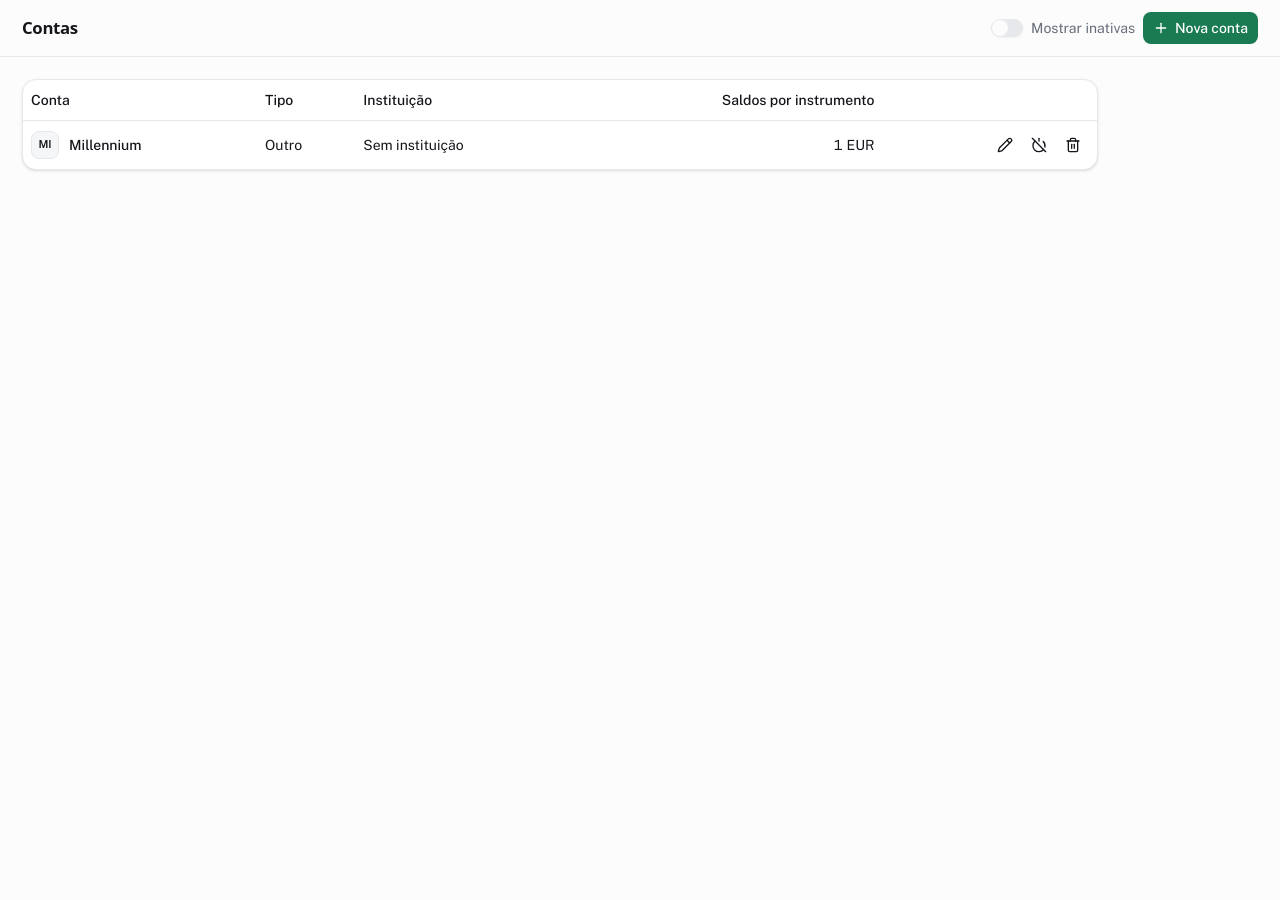
AccountsPage › refreshes Instrument Balances after editing an Initial Balance
The image size is (1280, 900).
Expected: the text "1 EUR" is shown, [833,136,874,152]
Click the button named "Editar": (1005, 144) [989,128,1021,160]
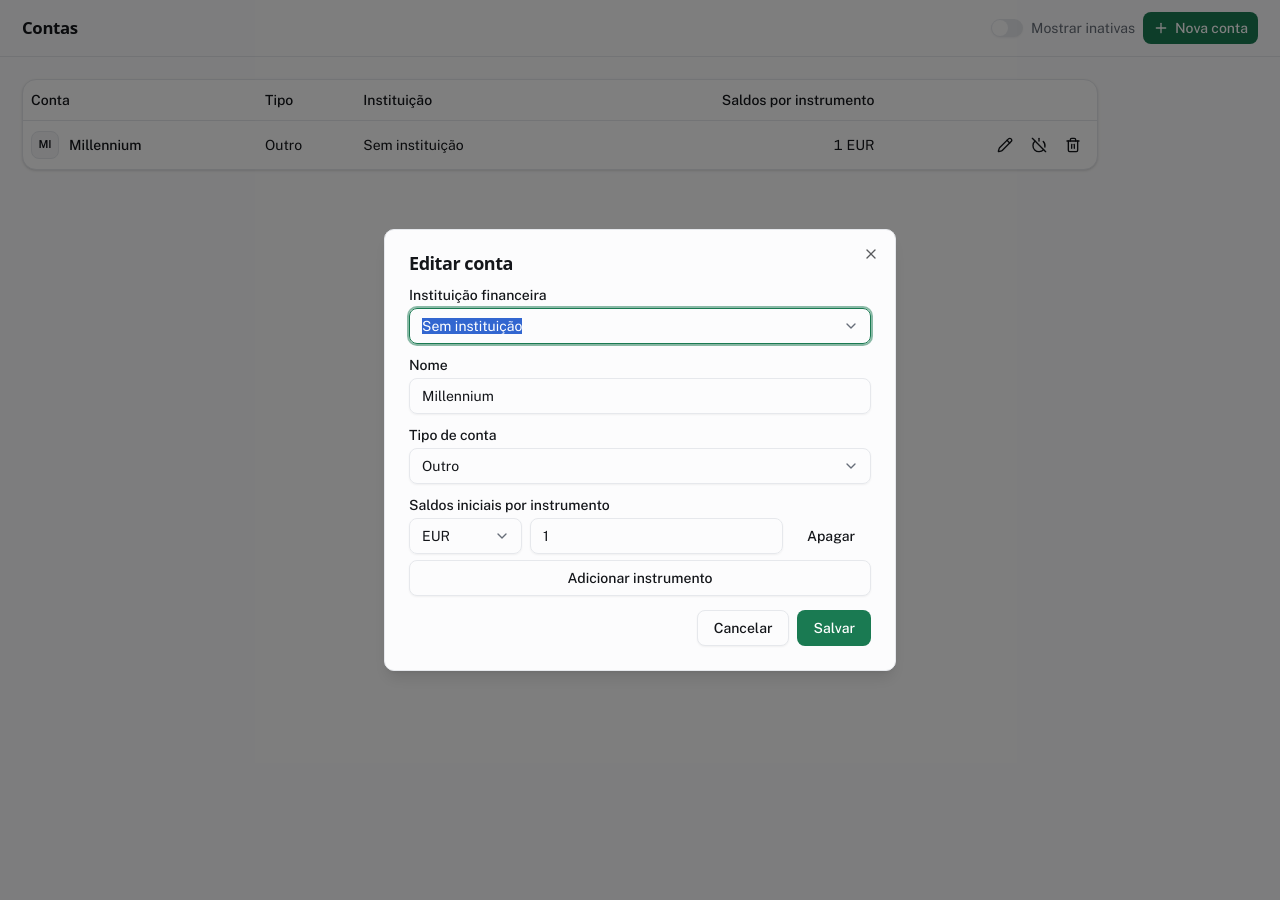
Replace the text in the field named "Quantidade" with "2": (656, 536) [530,518,783,554]
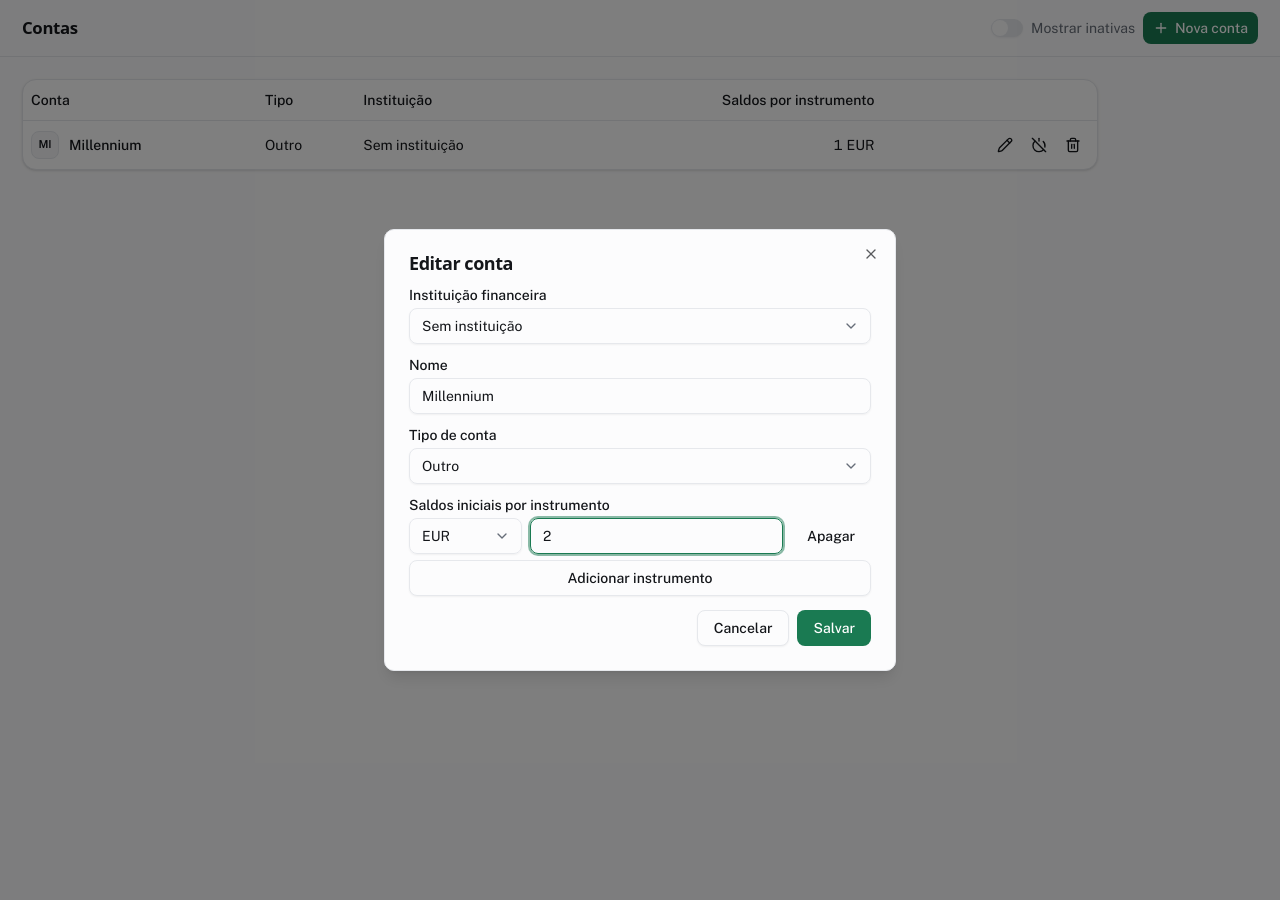
Click the button "Salvar": (834, 628) [798,610,871,646]
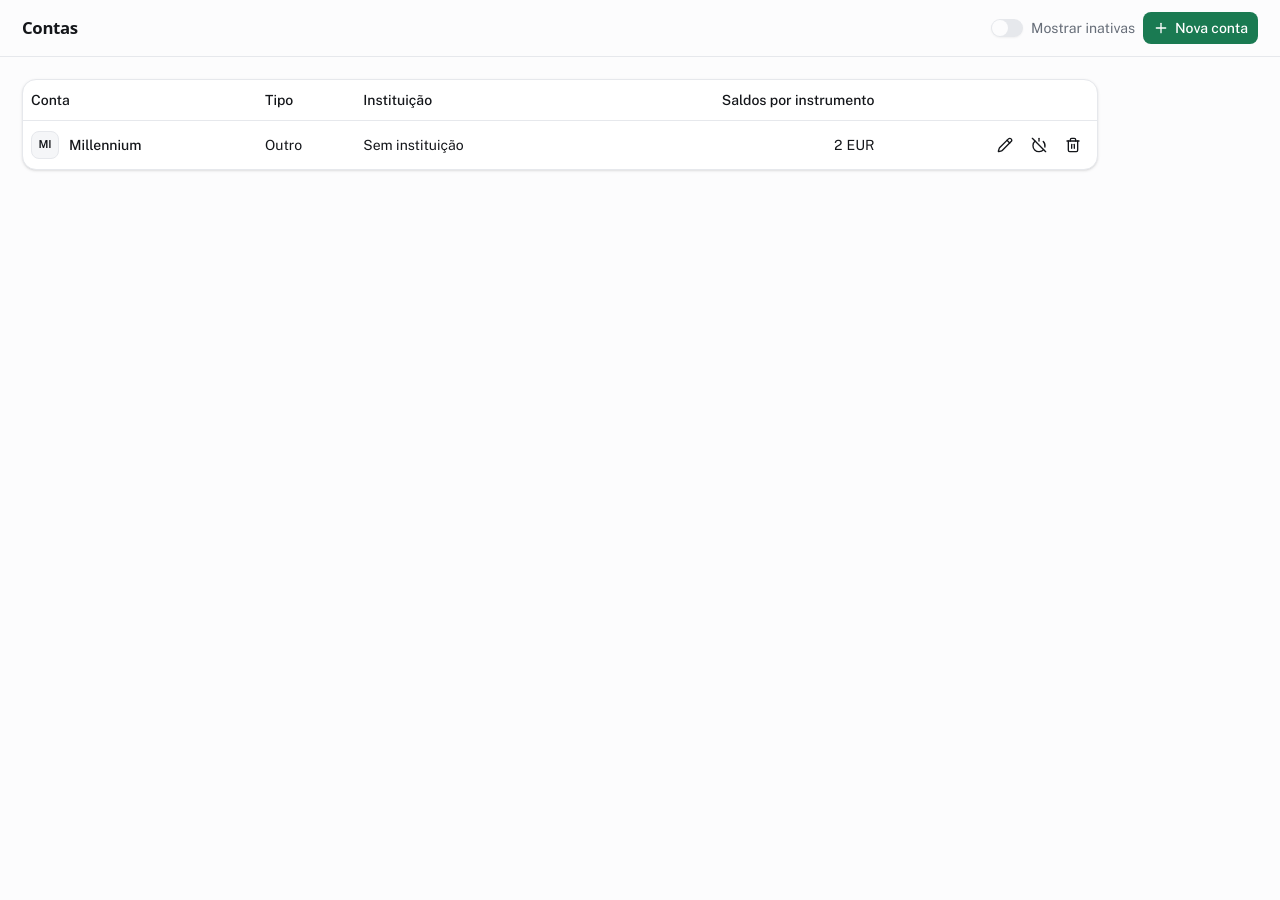
Now the text "2 EUR" is shown, box [833,136,874,152]
